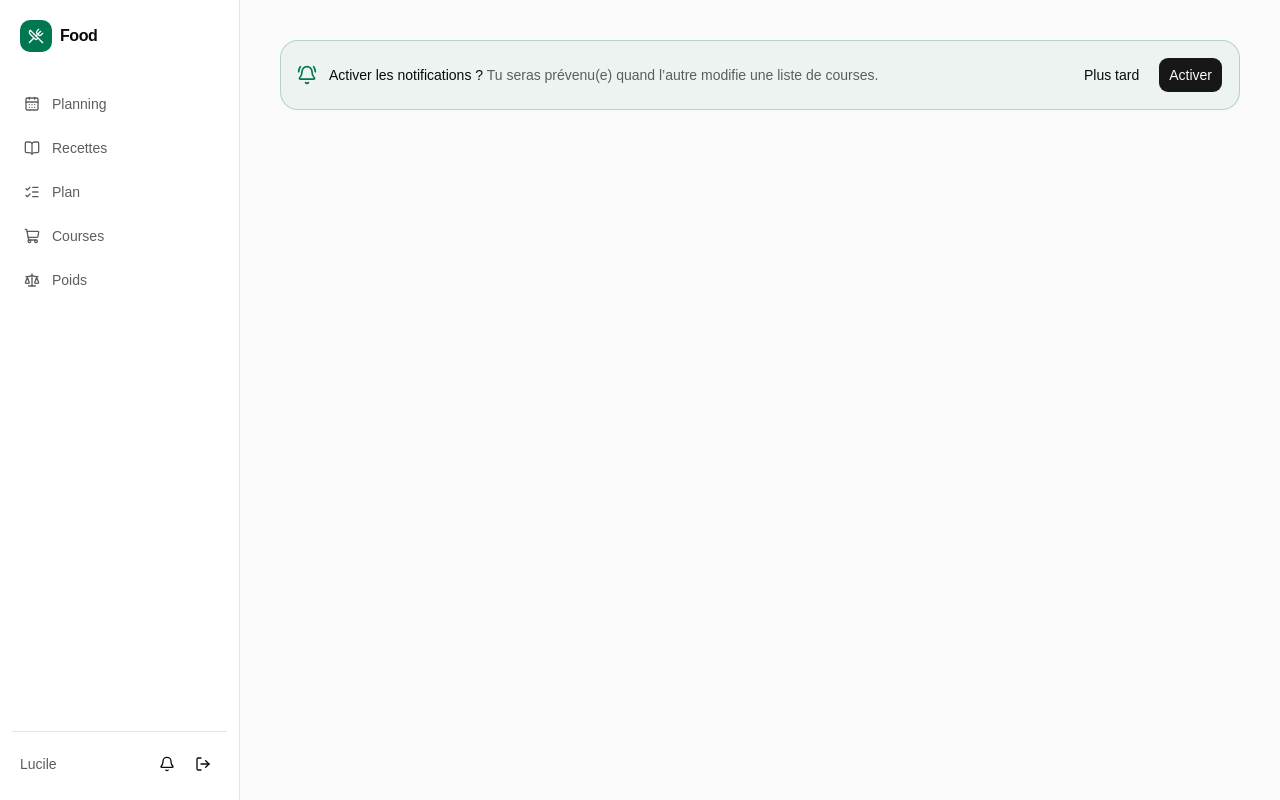
Test: notifications de l’application › la cloche permet d’activer puis de désactiver
The image size is (1280, 800).
Click the button named "Notifications": {"x": 167, "y": 764} [151,748,183,780]
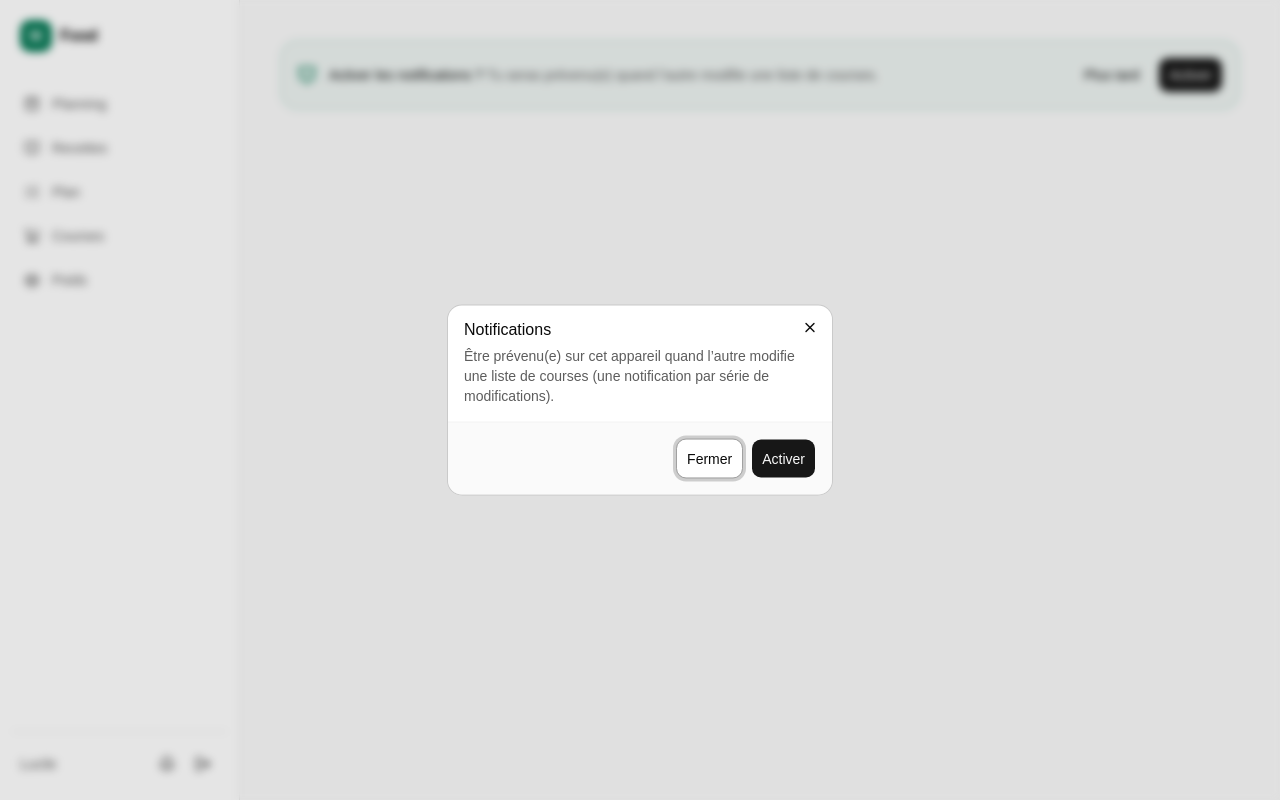
Result: the dialog "Notifications" shows "Être prévenu(e) sur cet appareil" at [464,348,795,404]
Click the button "Activer": {"x": 784, "y": 458} [751,438,816,478]
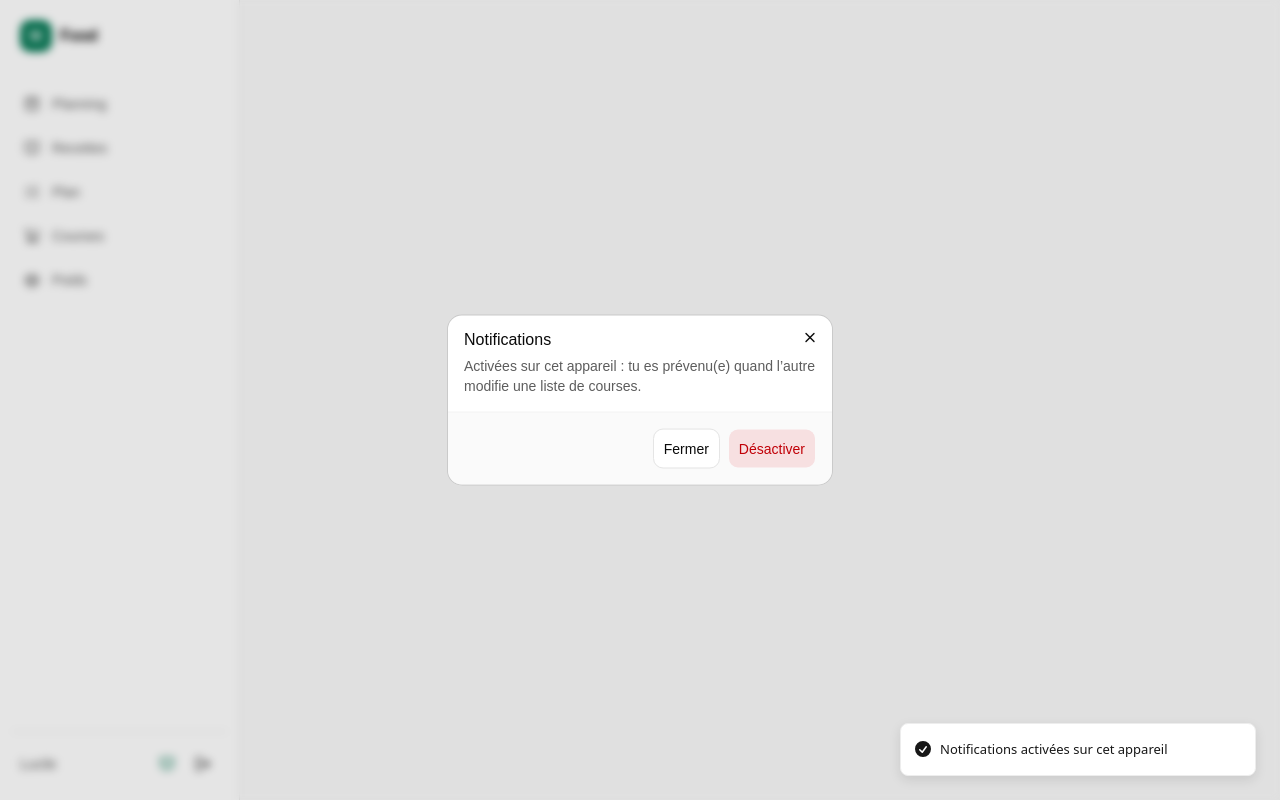
Result: the text "Activées sur cet appareil" is shown at [464,358,815,394]
Click the button "Désactiver": {"x": 772, "y": 448} [728,428,816,468]
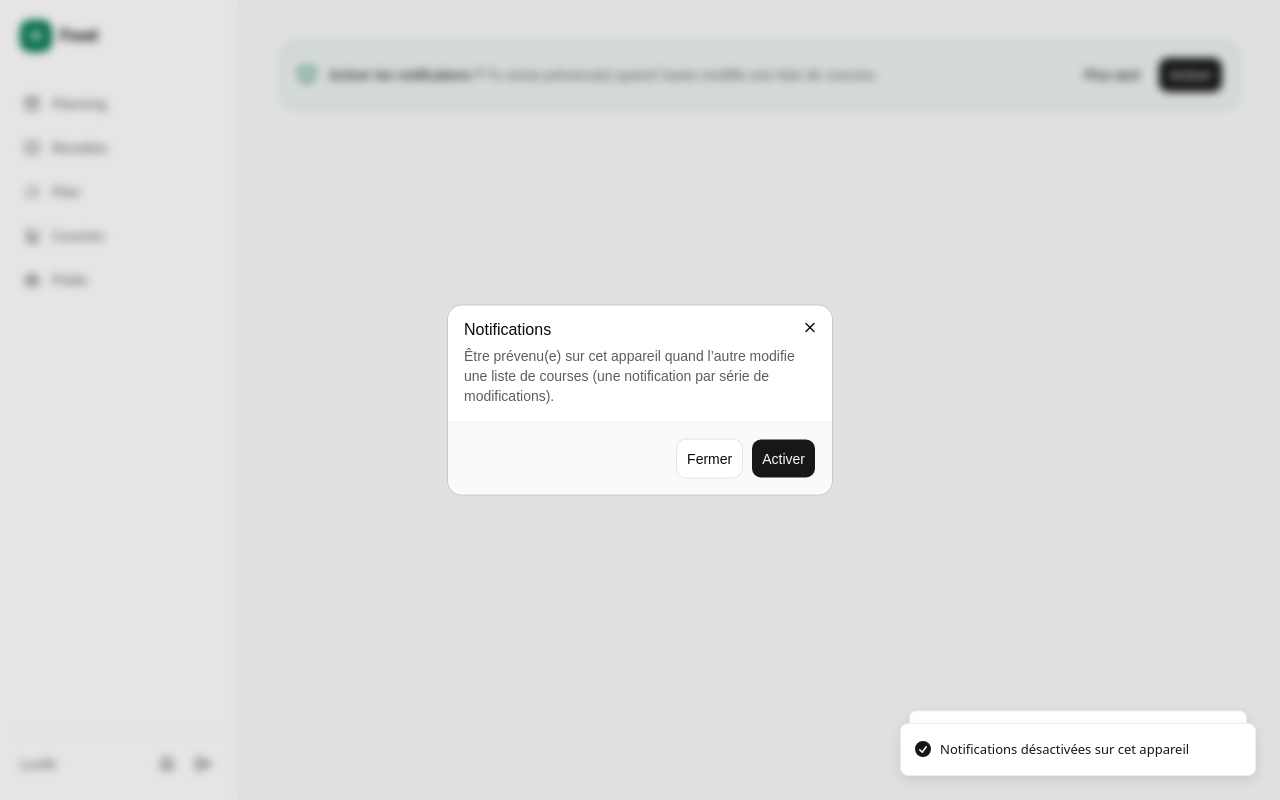
Result: the button "Activer" is shown at [751,438,816,478]
Click the button "Fermer": {"x": 710, "y": 458} [676,438,743,478]
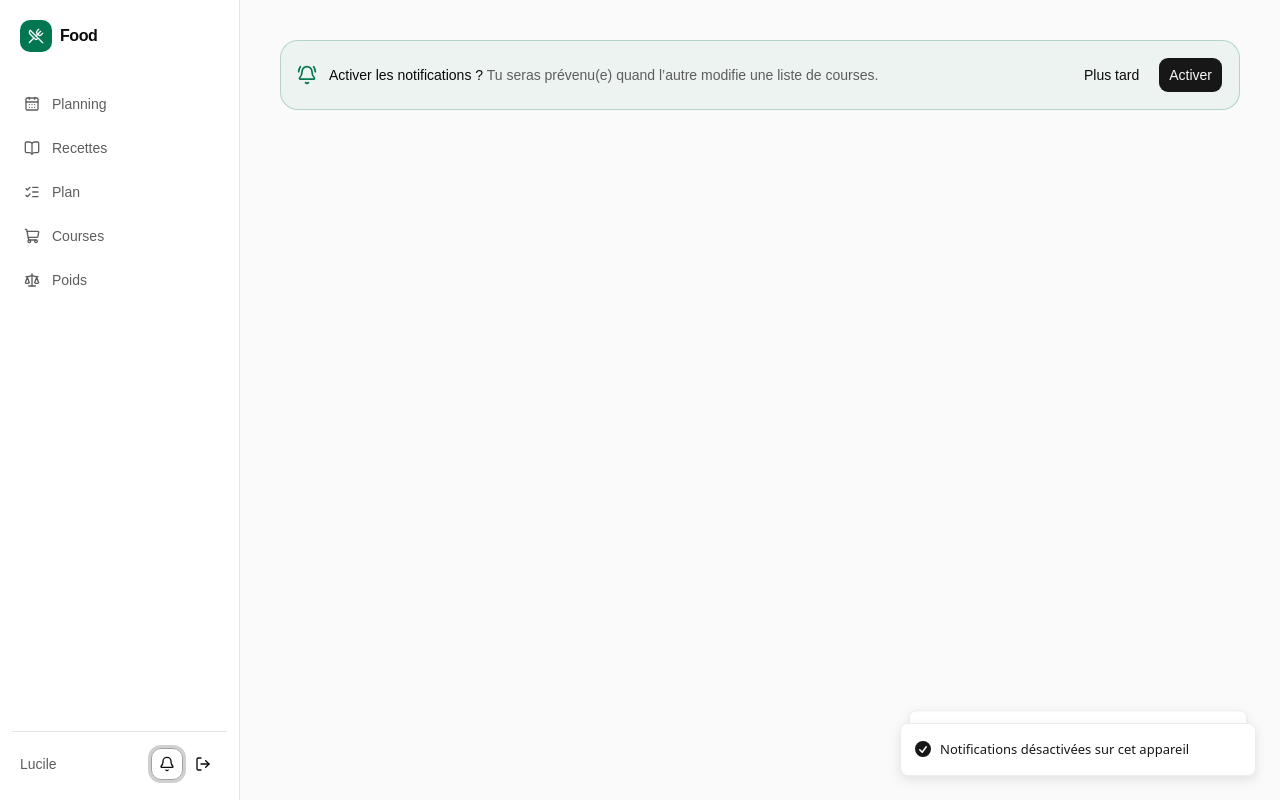
Result: the dialog is gone
